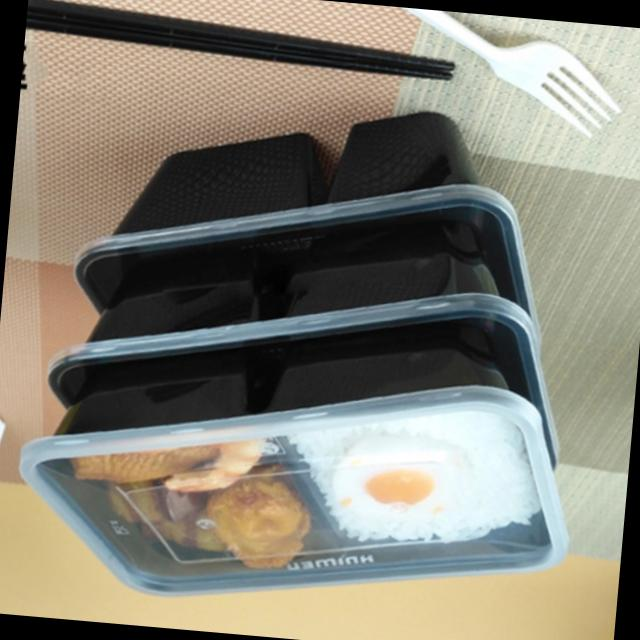plastic_box: (3, 331, 574, 617), (57, 69, 547, 332)
